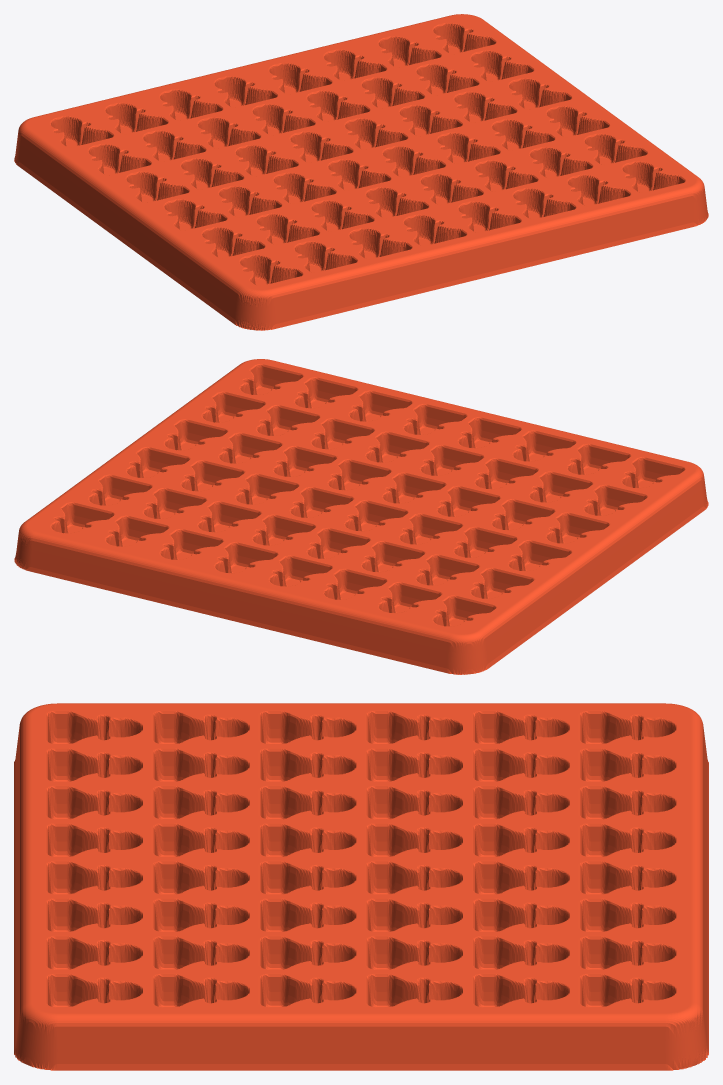
File: mold.glb
The picture shows the model from 3 angles, top to bottom: view 1: azimuth 30°, elevation 25°; view 2: azimuth 150°, elevation 25°; view 3: azimuth 270°, elevation 25°; orthographic projection. The views are drawn at different scales.
Parts seen in each view (by area): view 1: geometry_0; view 2: geometry_0; view 3: geometry_0.
Boxes of the visible parts, bbox=[...] form: geometry_0: bbox=[14, 14, 708, 330]; geometry_0: bbox=[14, 359, 708, 674]; geometry_0: bbox=[14, 703, 708, 1070].
Size of the model in its own units: 0.1591 by 0.0114 by 0.1443.
